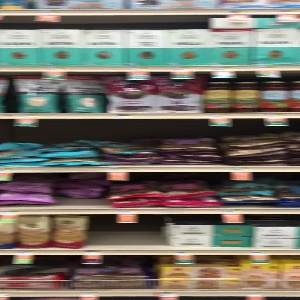void: (87, 215, 165, 249), (52, 169, 109, 210)
